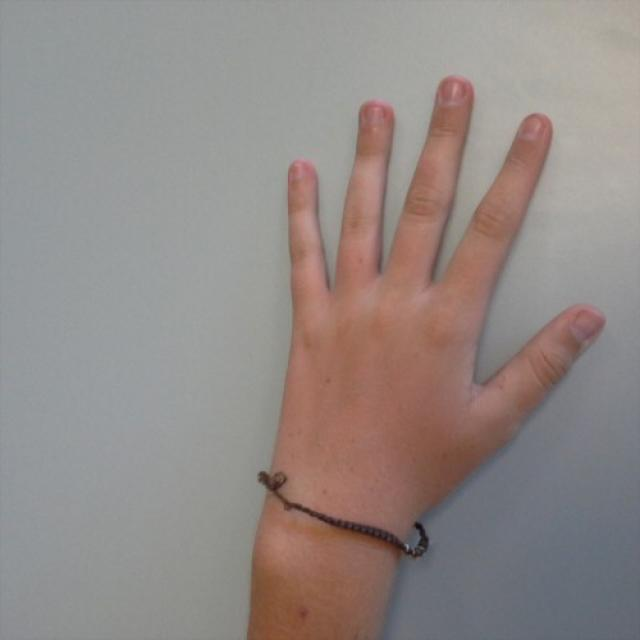paper: (286, 74, 608, 464)
